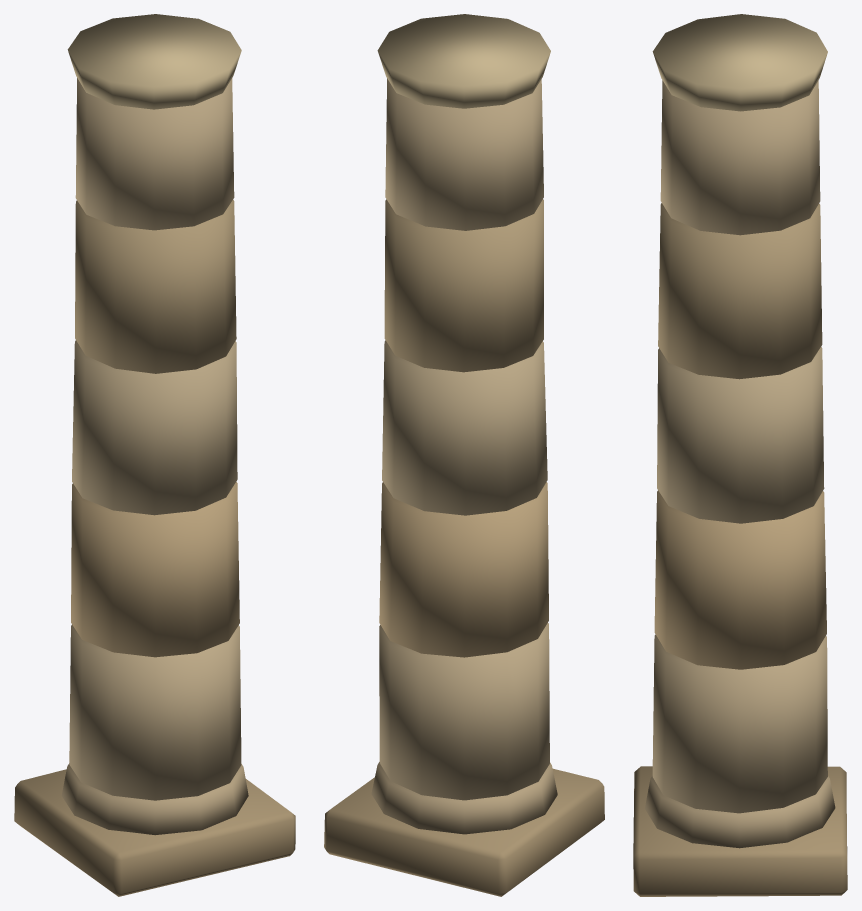
The model's file is ruins_column.glb.
The picture shows the model from 3 angles, left to right: view 1: azimuth 30°, elevation 25°; view 2: azimuth 150°, elevation 25°; view 3: azimuth 270°, elevation 25°; orthographic projection.
Visible parts, largest first — view 1: ruins_column; view 2: ruins_column; view 3: ruins_column.
Part boxes in pixels (x1,y1,x2,y2): ruins_column: [14, 14, 295, 896]; ruins_column: [324, 14, 604, 896]; ruins_column: [633, 14, 847, 896].
Size of what is drawn, in the model's own units: 1.02 by 4.25 by 1.03.
